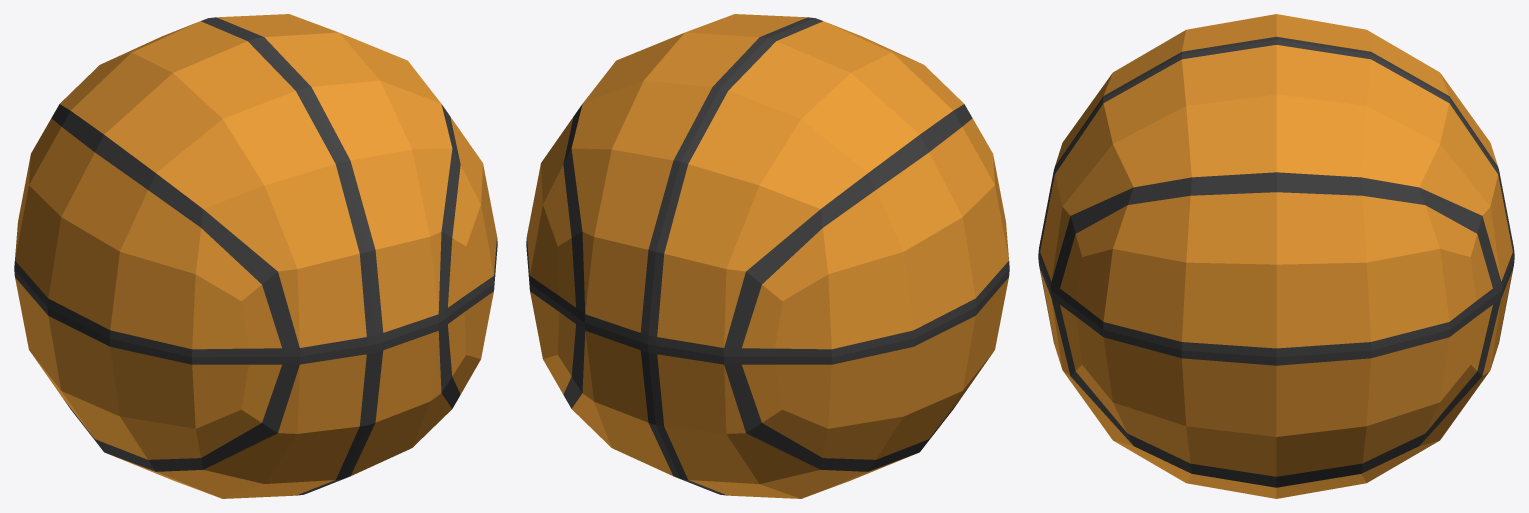
File: Basketball.fbx
3 views of the same model, side by side, from view 1: azimuth 30°, elevation 25°; view 2: azimuth 150°, elevation 25°; view 3: azimuth 270°, elevation 25° (orthographic).
Visible parts, largest first — view 1: Basketball; view 2: Basketball; view 3: Basketball.
Boxes of the visible parts, box(x1,y1,x2,y2) form: Basketball: box(14, 14, 497, 498); Basketball: box(526, 14, 1009, 498); Basketball: box(1038, 14, 1514, 498).
Size of the model in its own units: 47.19 by 47.25 by 47.08.
